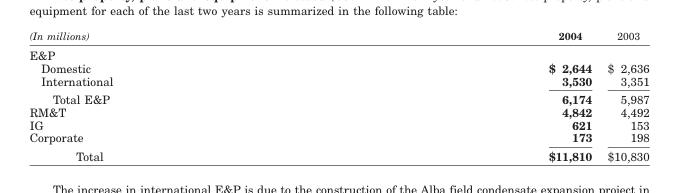table: (28, 29, 648, 162)
table column: (28, 29, 330, 162), (330, 29, 599, 162), (599, 29, 648, 162)
table column header: (28, 29, 648, 44)
table projected row header: (28, 44, 648, 60)
table row: (28, 44, 648, 60), (28, 73, 648, 89), (28, 130, 648, 146), (28, 146, 648, 162), (28, 29, 648, 44), (28, 89, 648, 104), (28, 60, 648, 73), (28, 104, 648, 117), (28, 117, 648, 130)
